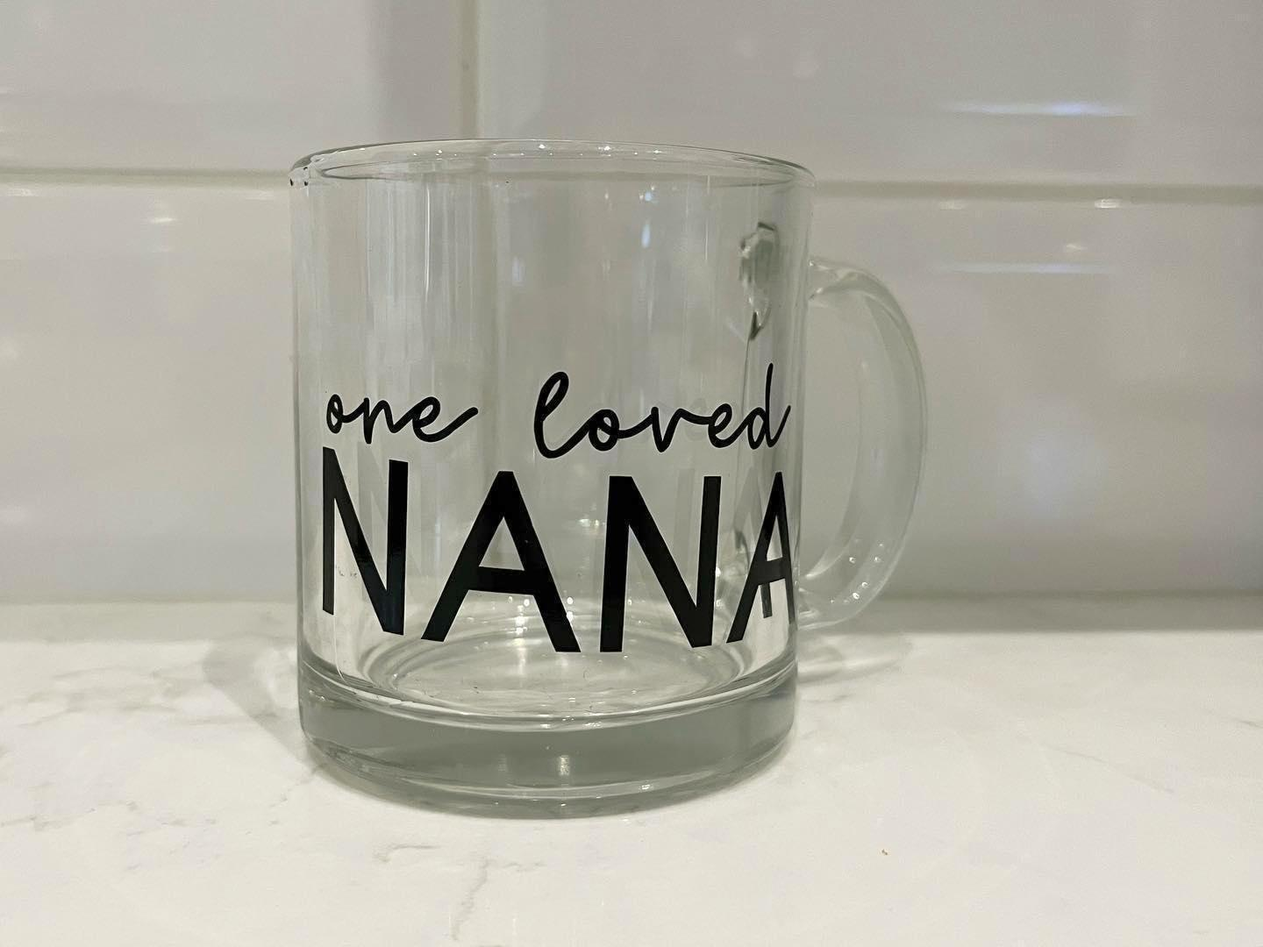glass-mug: (270, 122, 938, 830)
